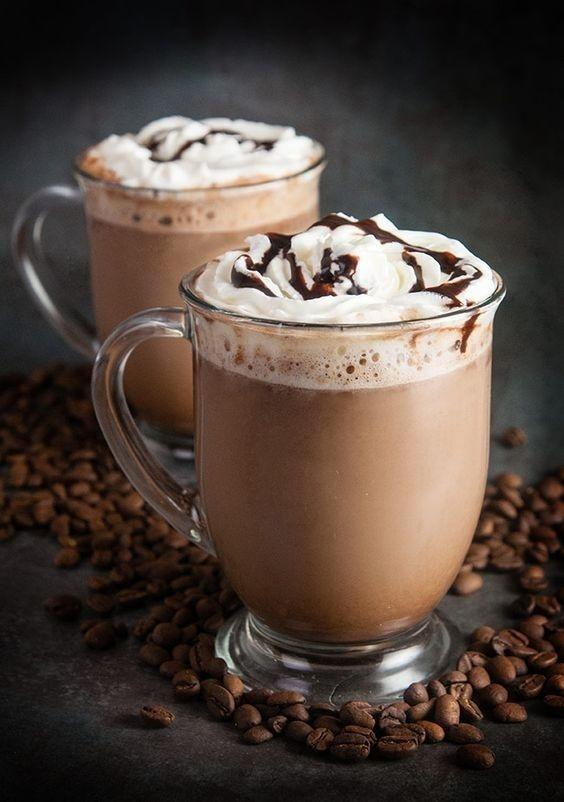glass-mug: (85, 222, 508, 710), (7, 106, 331, 453)
